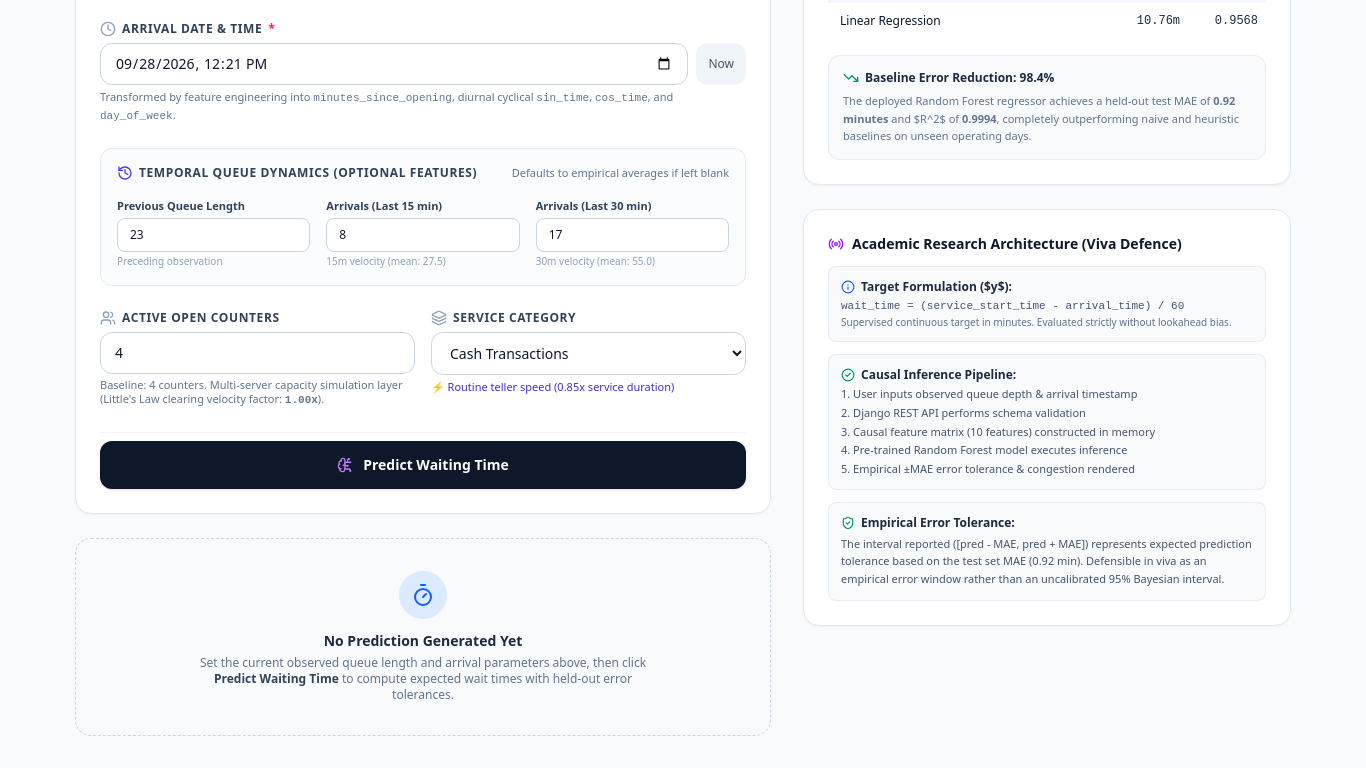
Test: Prediction Page Live ML Inference › submits inputs and displays real-time prediction result card
(page scrolled)
Click the button "Predict Waiting Time". click: (423, 464)
box: [100,440,746,488]
(page scrolled)
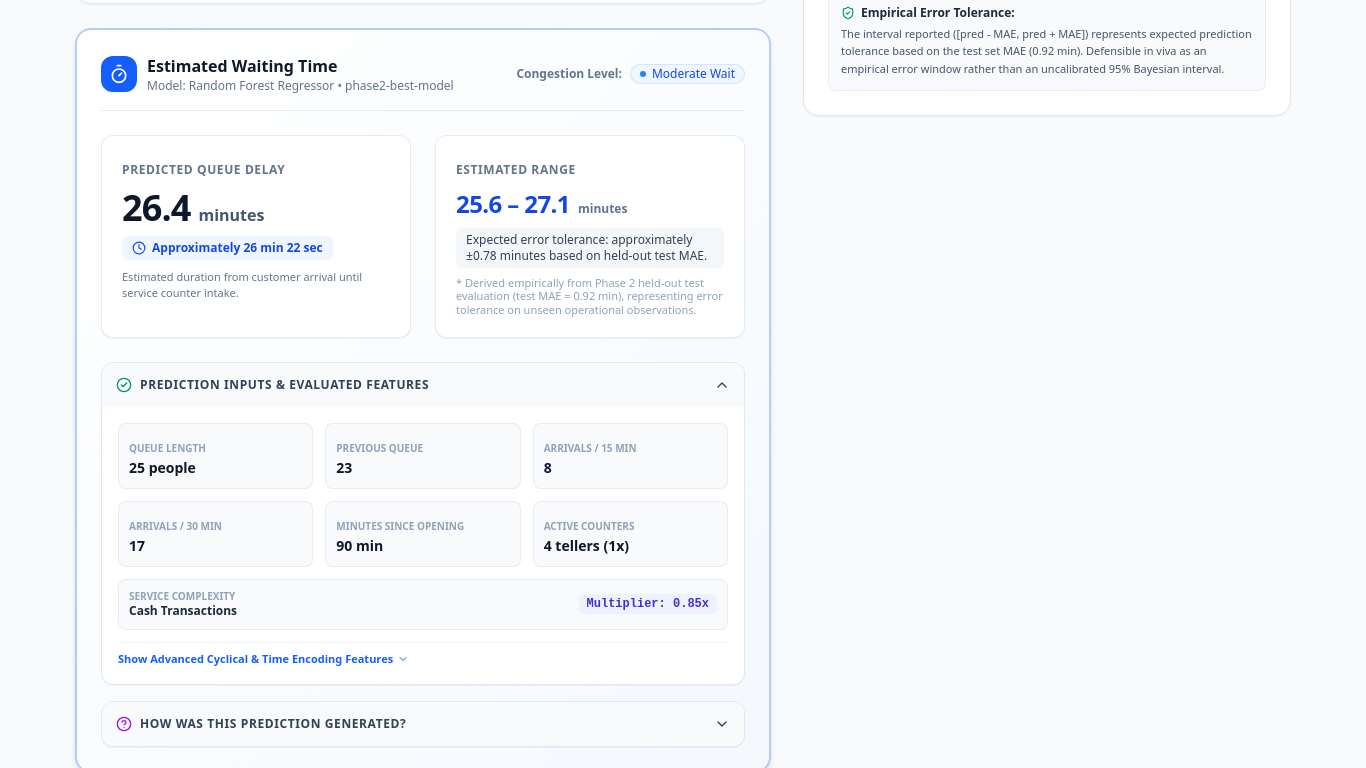
Expected: the heading "Estimated Waiting Time" is shown, [147,54,337,76]
Expected: the text "26.4" is shown, [122,188,190,228]
Expected: the text "25.6 – 27.1" is shown, [456,188,570,220]
